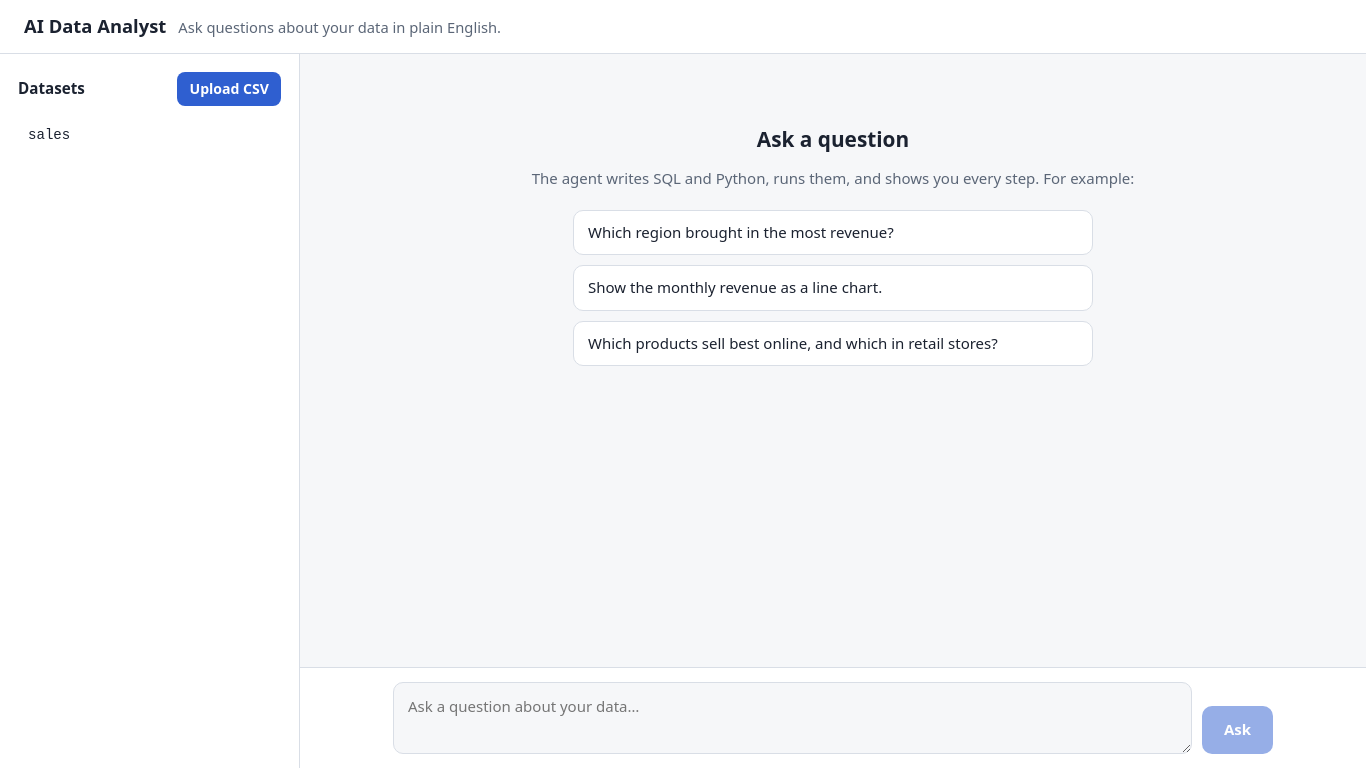
AnalystApp › asks a suggested question
Click the button "Which region brought in the most revenue?" at (833, 233), box [573,210,1093,255]
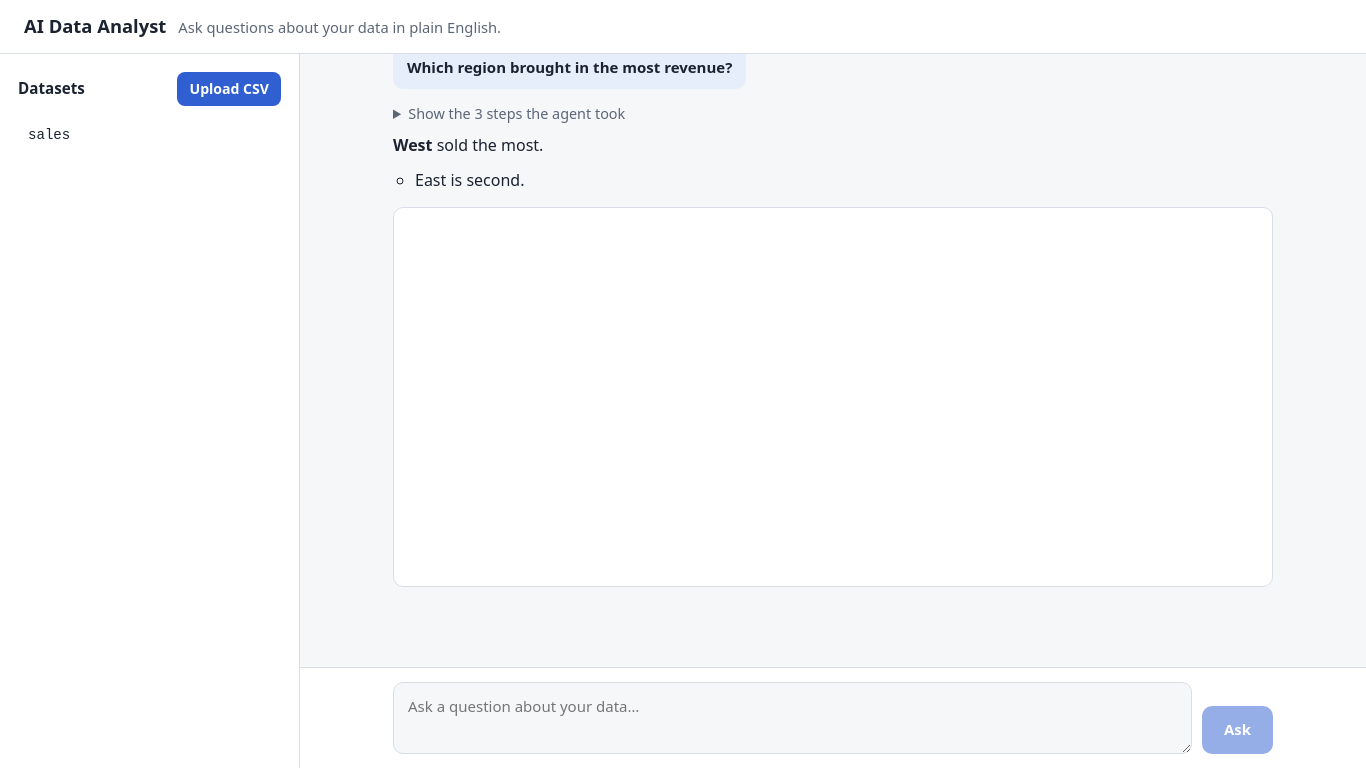
Now the text "West" is shown, box [393,134,432,156]
